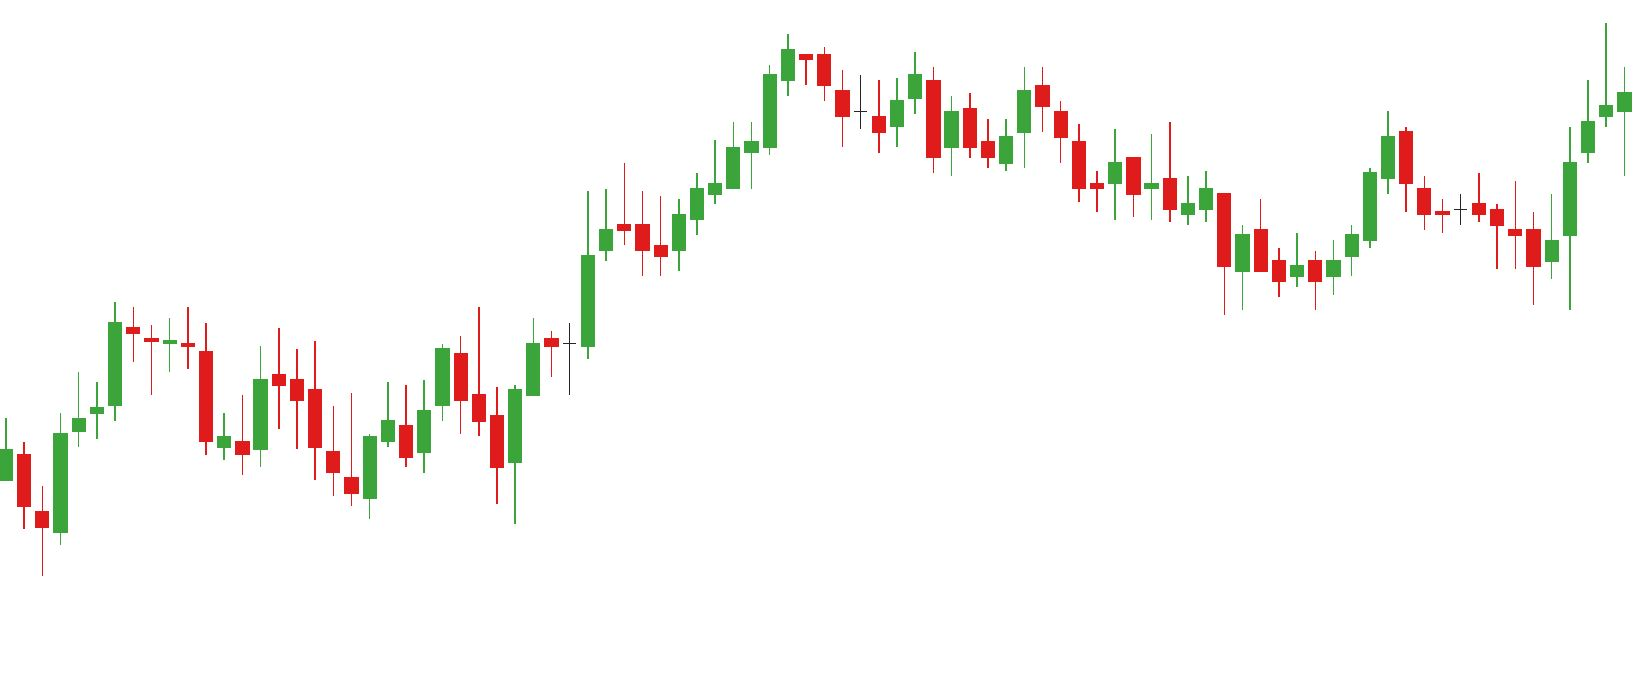buy: (358, 383, 522, 531)
